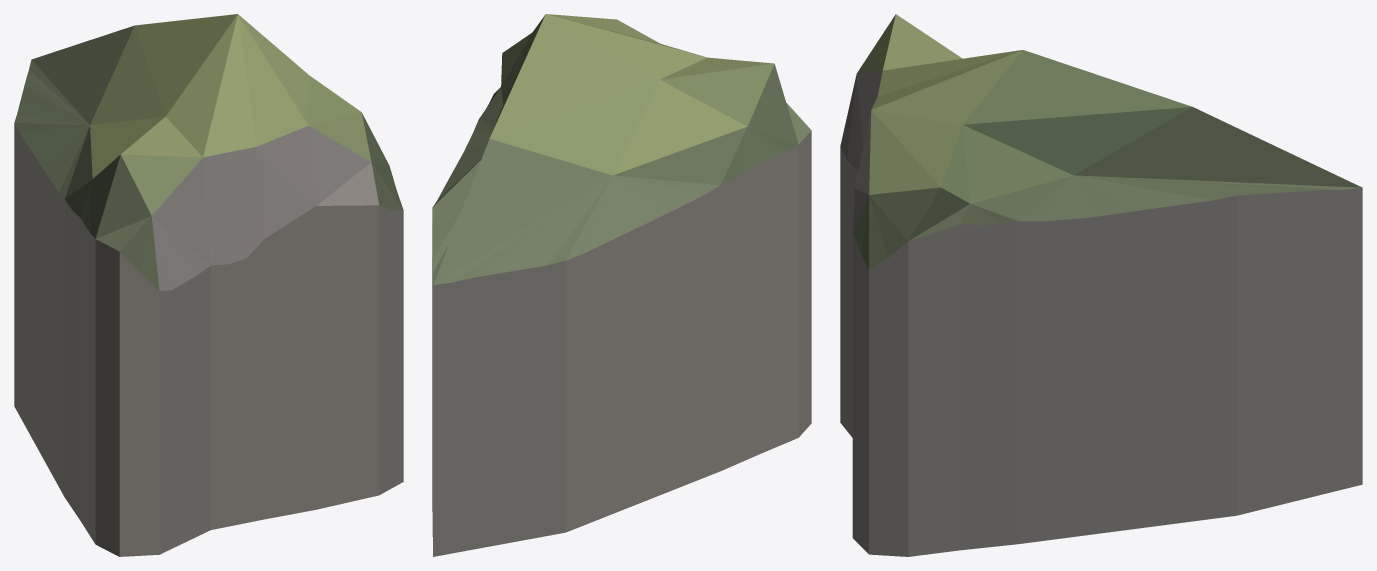
Rendered from cliff_western_slab.glb.
3 views of the same model, side by side, from view 1: azimuth 30°, elevation 25°; view 2: azimuth 150°, elevation 25°; view 3: azimuth 270°, elevation 25° (orthographic). The views are drawn at different scales.
Parts seen in each view (by area): view 1: cliff_western_slab; view 2: cliff_western_slab; view 3: cliff_western_slab.
Part boxes in pixels (left/top/right/bottom): cliff_western_slab: left=14, top=14, right=403, bottom=556; cliff_western_slab: left=432, top=14, right=811, bottom=556; cliff_western_slab: left=840, top=14, right=1362, bottom=556.
Bounding box in the file's own units: 55.6 × 77.32 × 79.97.
